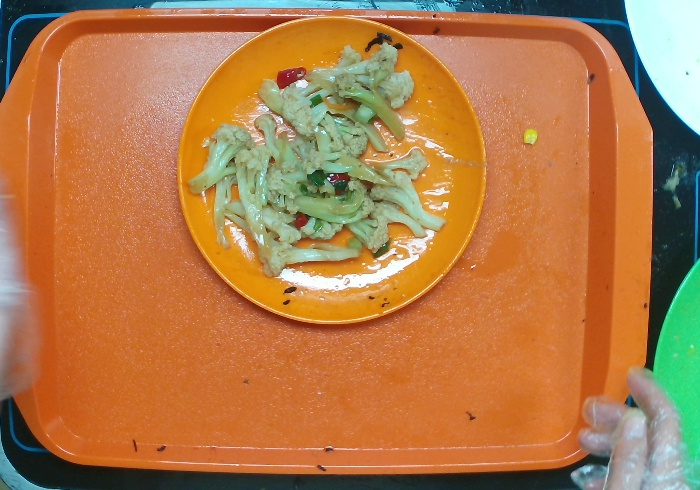HZYJPL-Ju_Huang_Yuan_Pan: (175, 14, 488, 325)
